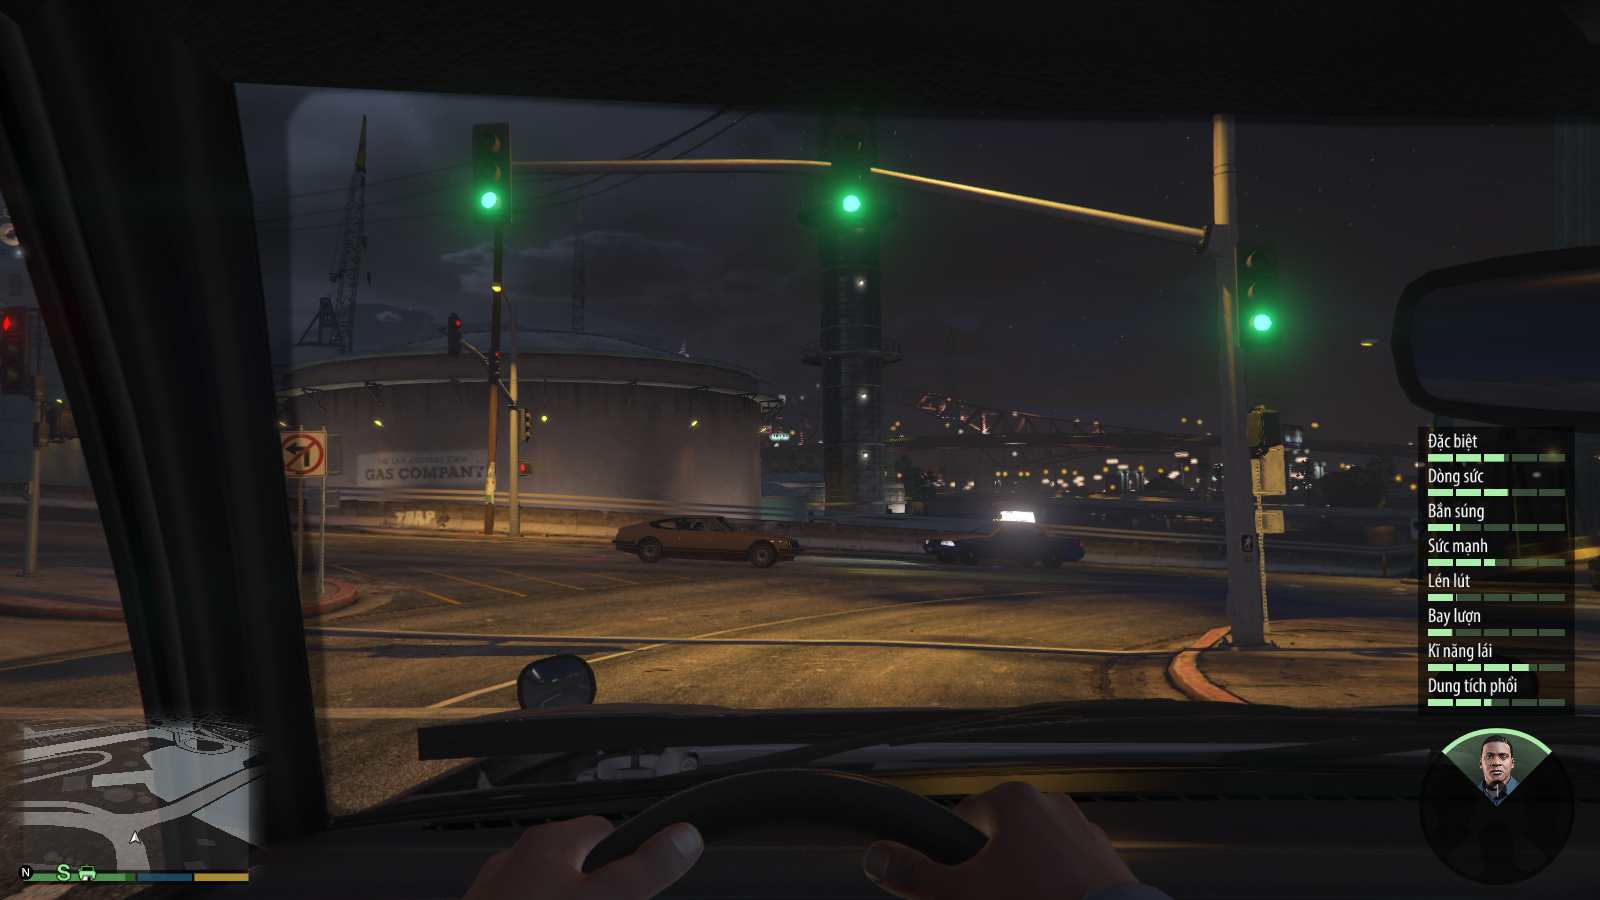green: (1232, 243, 1289, 352), (824, 134, 880, 232), (471, 125, 513, 222)
